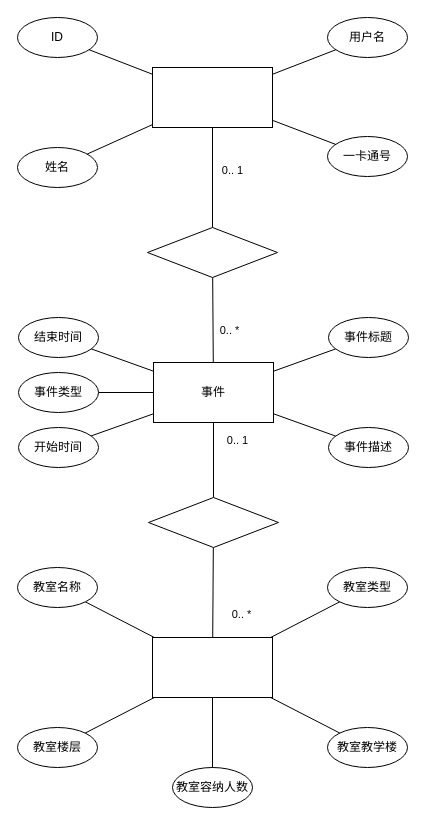
This 426x825 diagram has some shape labels left out. Here are the shapes that lost their labels. From the top down, the centre of each, then its label:
the point at 212,97: 用户
the point at 212,252: 发起
the point at 213,522: 涉及
the point at 212,667: 教室
